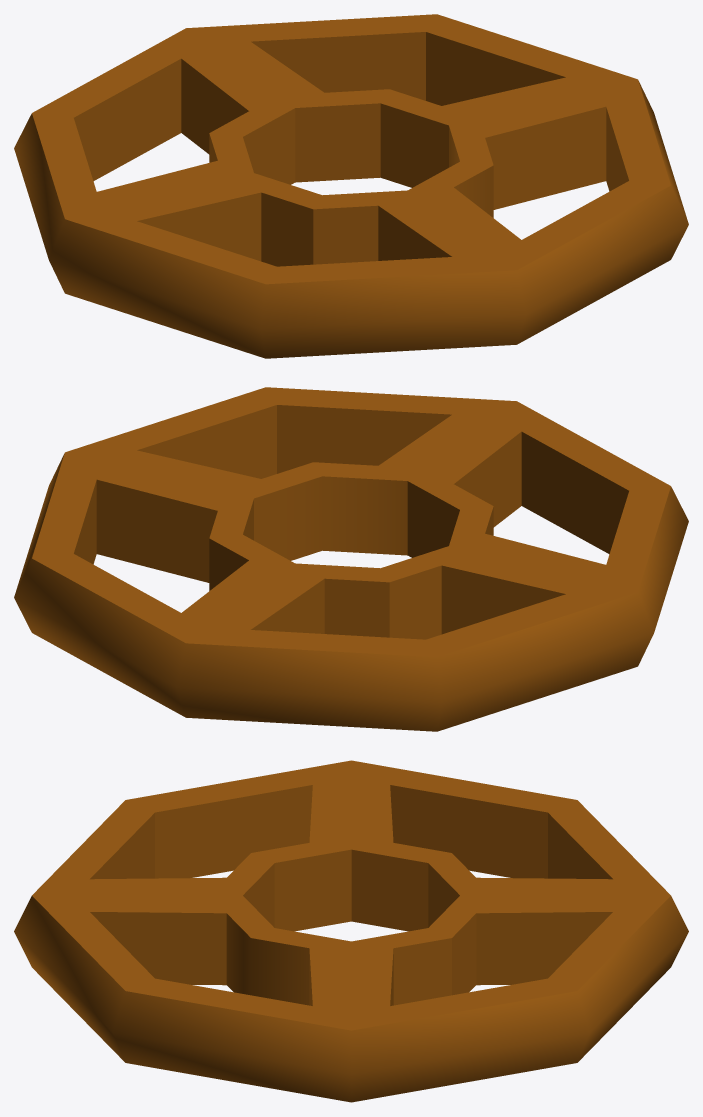
File: Valve.fbx
The picture shows the model from 3 angles, top to bottom: view 1: azimuth 30°, elevation 25°; view 2: azimuth 150°, elevation 25°; view 3: azimuth 270°, elevation 25°; orthographic projection. The views are drawn at different scales.
Visible parts, largest first — view 1: Valve; view 2: Valve; view 3: Valve.
Boxes of the visible parts, <box> form: Valve: <box>14,14,688,358</box>; Valve: <box>14,387,688,731</box>; Valve: <box>14,760,688,1102</box>.
Size of the model in its own units: 3.09 by 0.3636 by 3.09.
